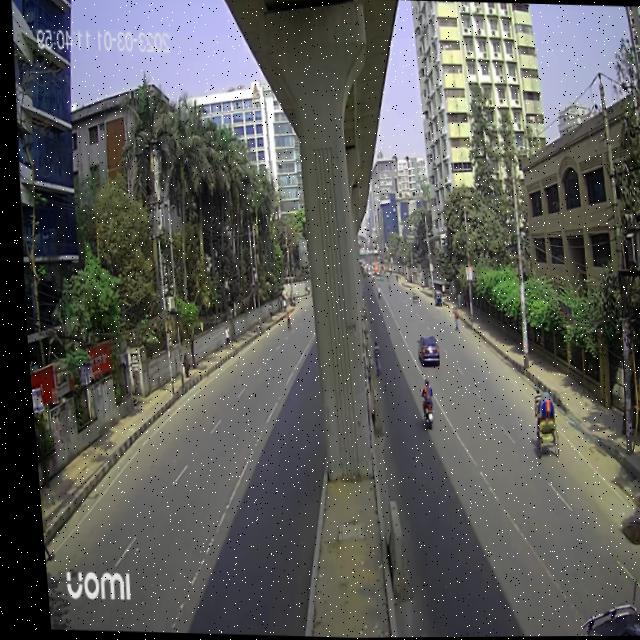rikshaw: (518, 384, 557, 459)
